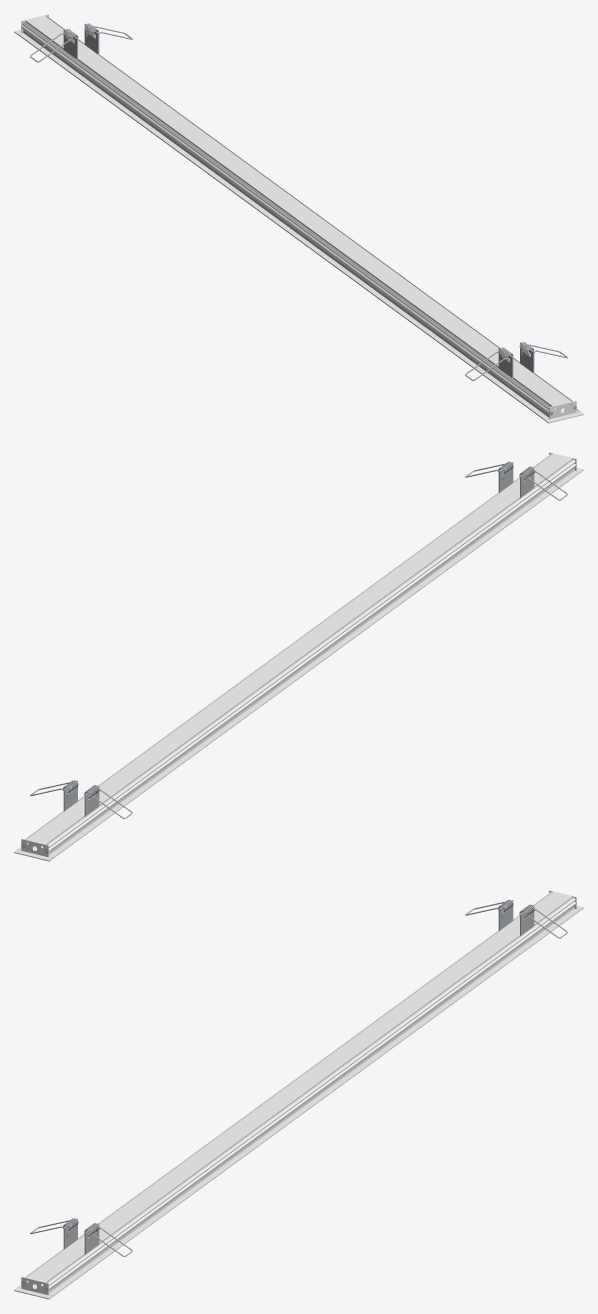
Rendered from Fit25SlimEmbutido.glb.
The picture shows the model from 3 angles, top to bottom: view 1: azimuth 30°, elevation 25°; view 2: azimuth 150°, elevation 25°; view 3: azimuth 330°, elevation 25°; orthographic projection.
Parts seen in each view (by area): view 1: 3DGeom-1; view 2: 3DGeom-1; view 3: 3DGeom-1.
Boxes of the visible parts, x1,y1,x2,y2 form: 3DGeom-1: (17,16,579,420); 3DGeom-1: (18,454,580,858); 3DGeom-1: (18,892,580,1296).
Bounding box in the file's own units: 0.1054 × 0.0371 × 1.02.
3 materials, 1 textured.
